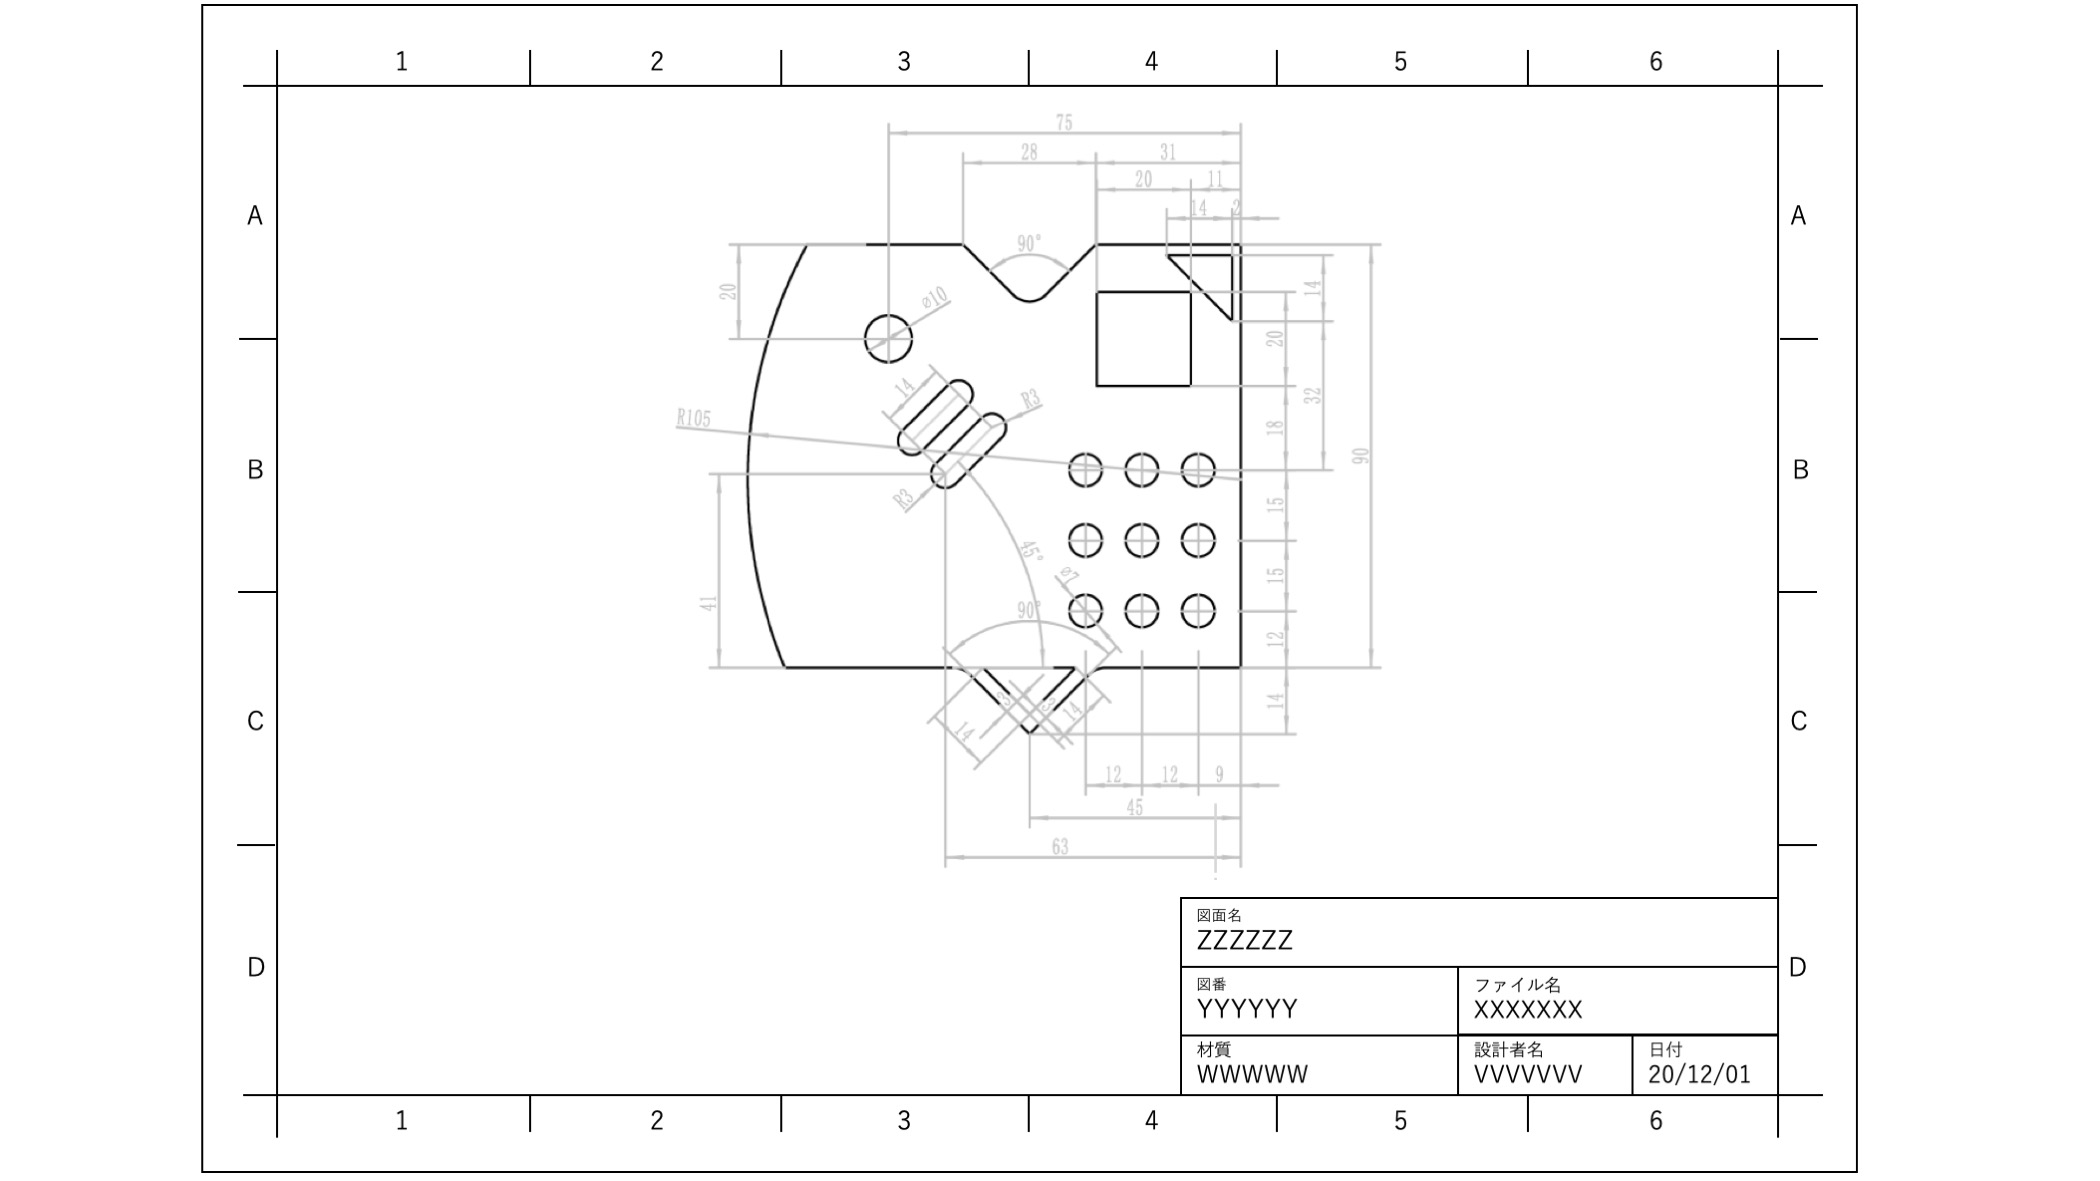circle: (855, 304, 919, 368), (1116, 513, 1164, 564), (1175, 583, 1219, 634), (1178, 508, 1219, 562), (1121, 584, 1168, 629), (1062, 581, 1103, 632), (1119, 446, 1165, 486), (1175, 443, 1214, 487), (1064, 443, 1102, 489), (1067, 513, 1105, 559)
rectangle: (1092, 281, 1199, 394)
round_rectangle: (893, 368, 981, 459), (926, 405, 1012, 495)
triangle: (976, 662, 1080, 733), (1162, 242, 1242, 320)
